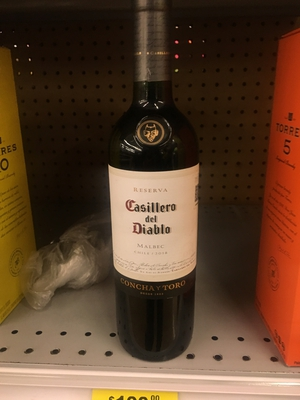casillero del diablo malbec: (94, 4, 212, 366)
